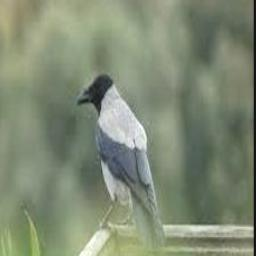Crow: (76, 71, 166, 247)
